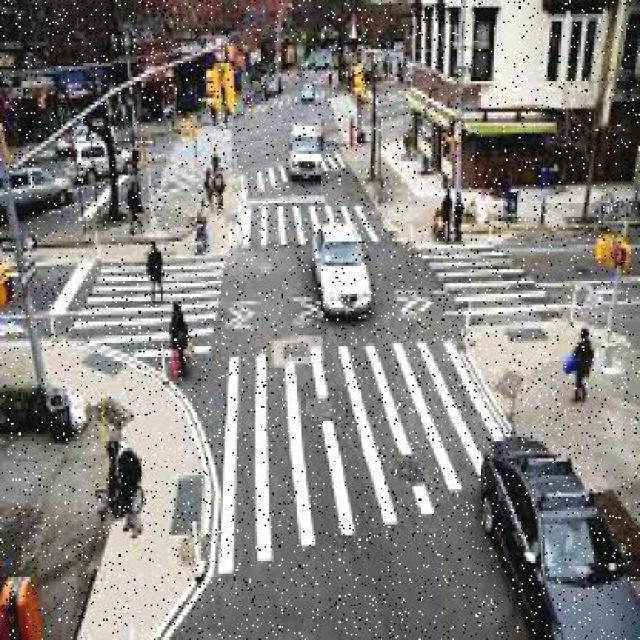crosswalk: (219, 352, 527, 568), (78, 254, 234, 382), (422, 245, 556, 327), (239, 200, 393, 256), (248, 147, 352, 200)
